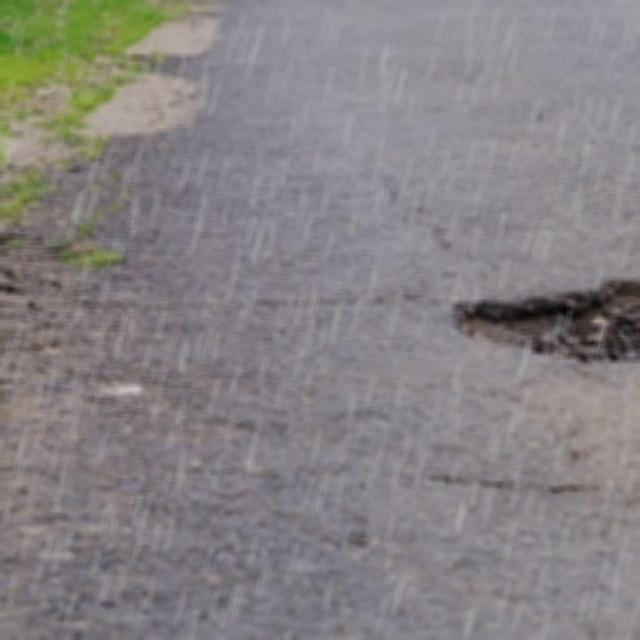road-pothole: (447, 281, 639, 372)
